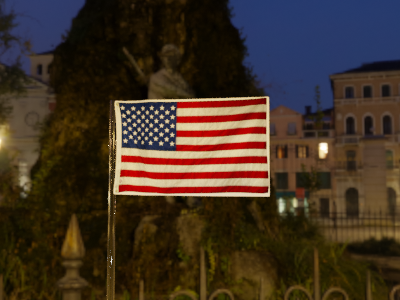America flag: (114, 96, 272, 199)
